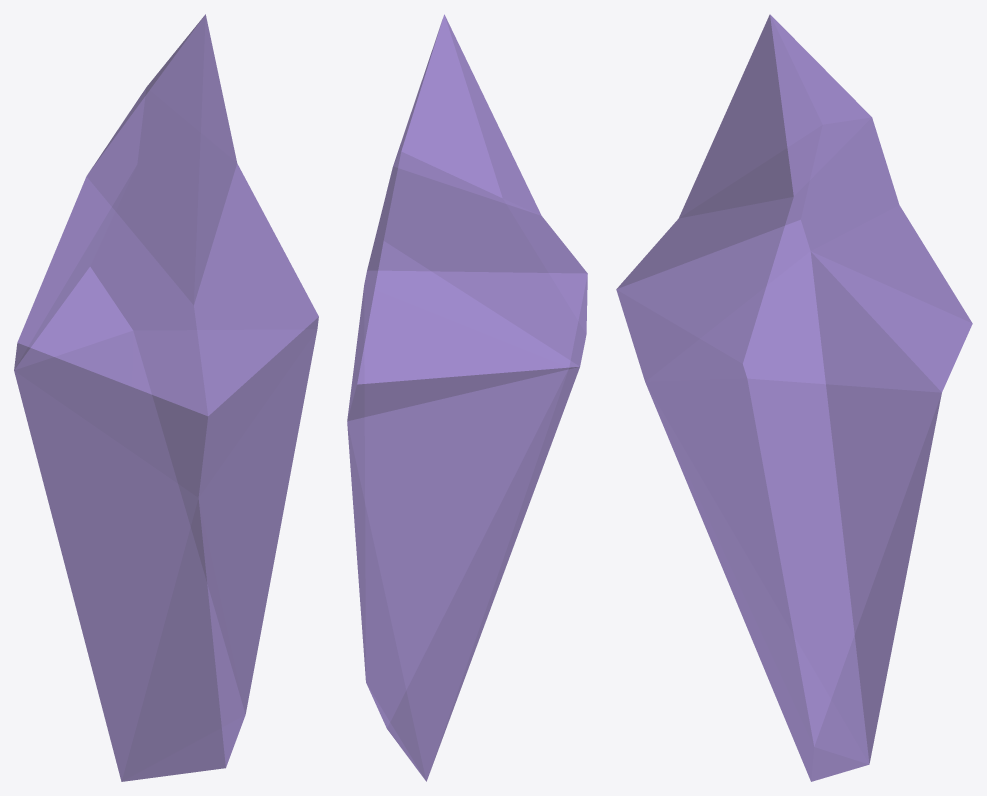
The model's file is Crystal_New_13.fbx.
3 renders of one model, left to right at view 1: azimuth 30°, elevation 25°; view 2: azimuth 150°, elevation 25°; view 3: azimuth 270°, elevation 25°, orthographic. The views are drawn at different scales.
Visible parts, largest first — view 1: Model; view 2: Model; view 3: Model.
Boxes of the visible parts, <box> form: Model: <box>14,14,318,781</box>; Model: <box>347,14,587,781</box>; Model: <box>616,14,972,781</box>.
Bounding box in the file's own units: 114 × 320 × 135.
